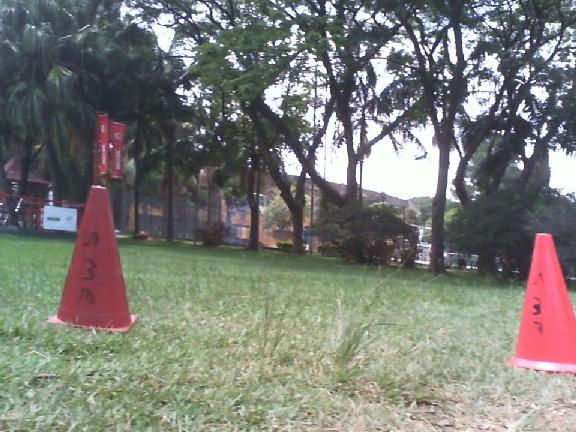0 cone: (45, 186, 139, 334), (509, 232, 576, 375)
